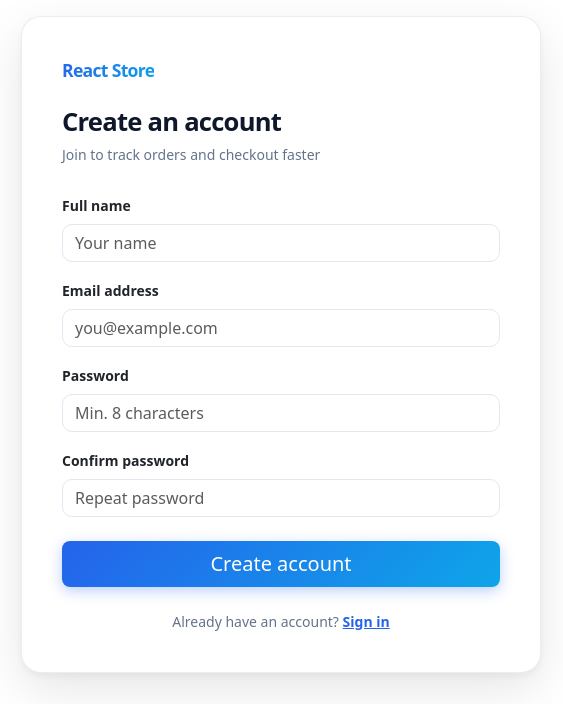
Test case: RegisterPage › shows "Passwords do not match" for mismatched passwords
This screenshot has width=563, height=704.
Step 1. Type "Alice" into the field labelled "Full name" → (281,243), box [62,224,500,262]
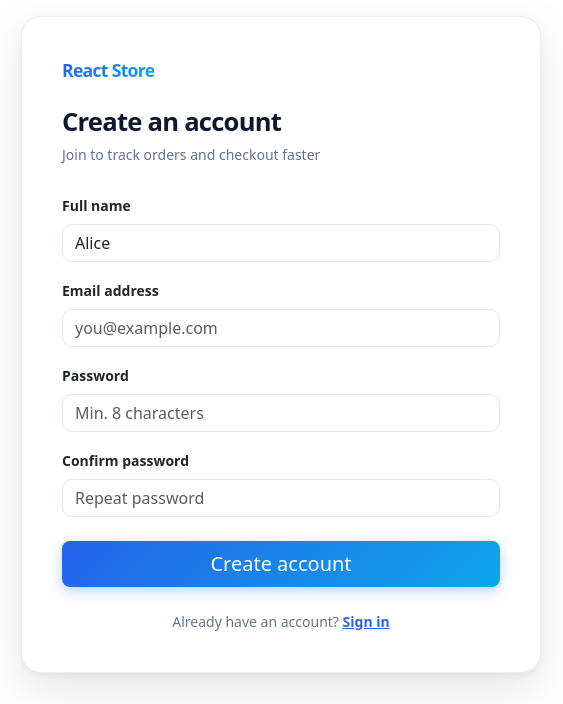
Step 2. Type "alice@test.com" into the field labelled "Email address" → (281,328), box [62,309,500,347]
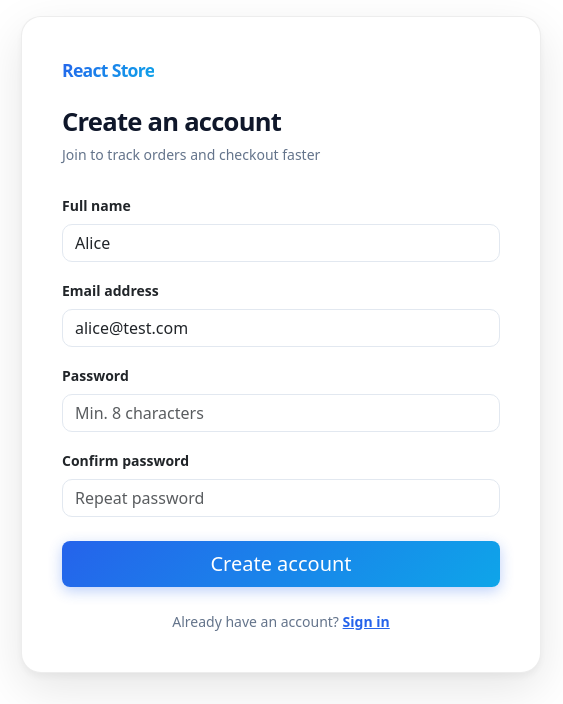
Step 3. Type "Password123!" into the password field labelled "Password" → (281,413), box [62,394,500,432]
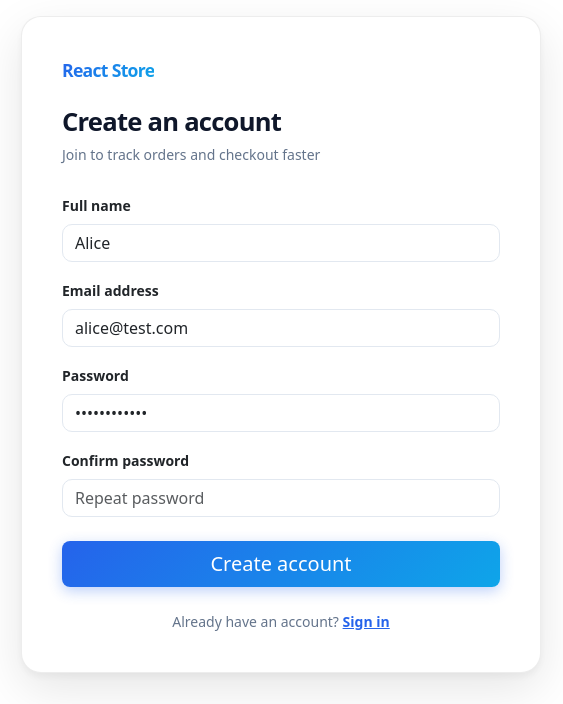
Step 4. Type "DifferentPass!" into the password field labelled "Confirm password" → (281,498), box [62,479,500,517]
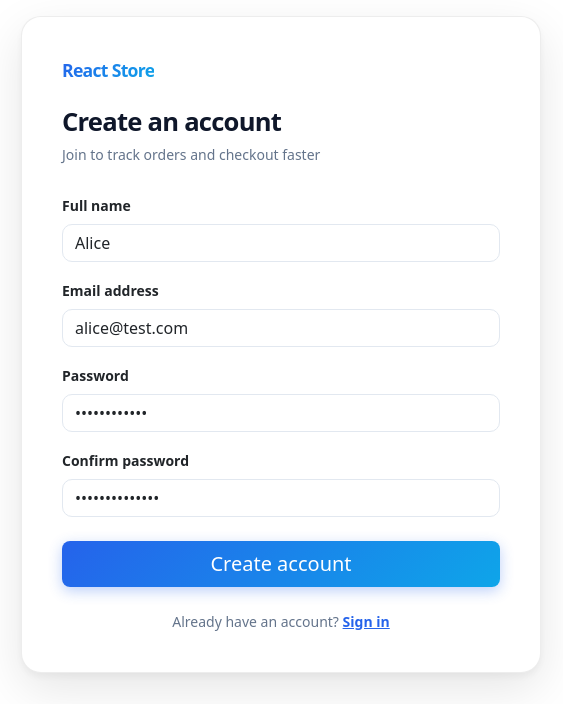
Step 5. Click the button "Create account" → (281,564), box [62,541,500,587]
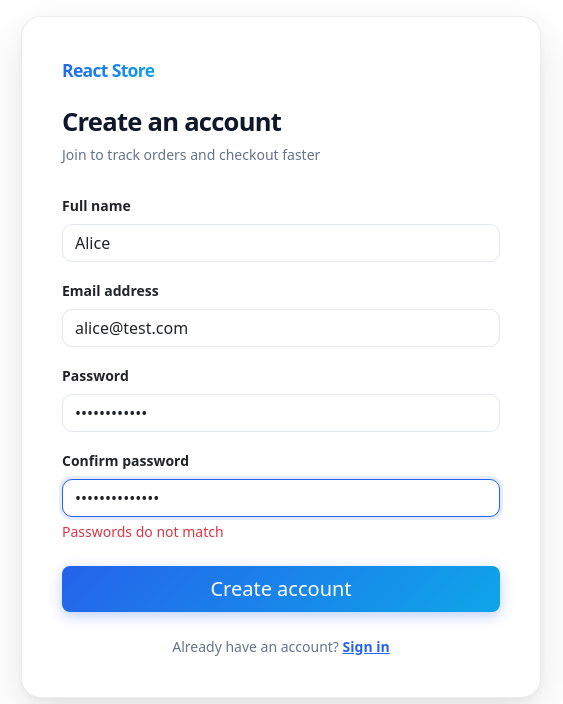
Expected: the text "Passwords do not match" is shown, [62,522,224,541]
